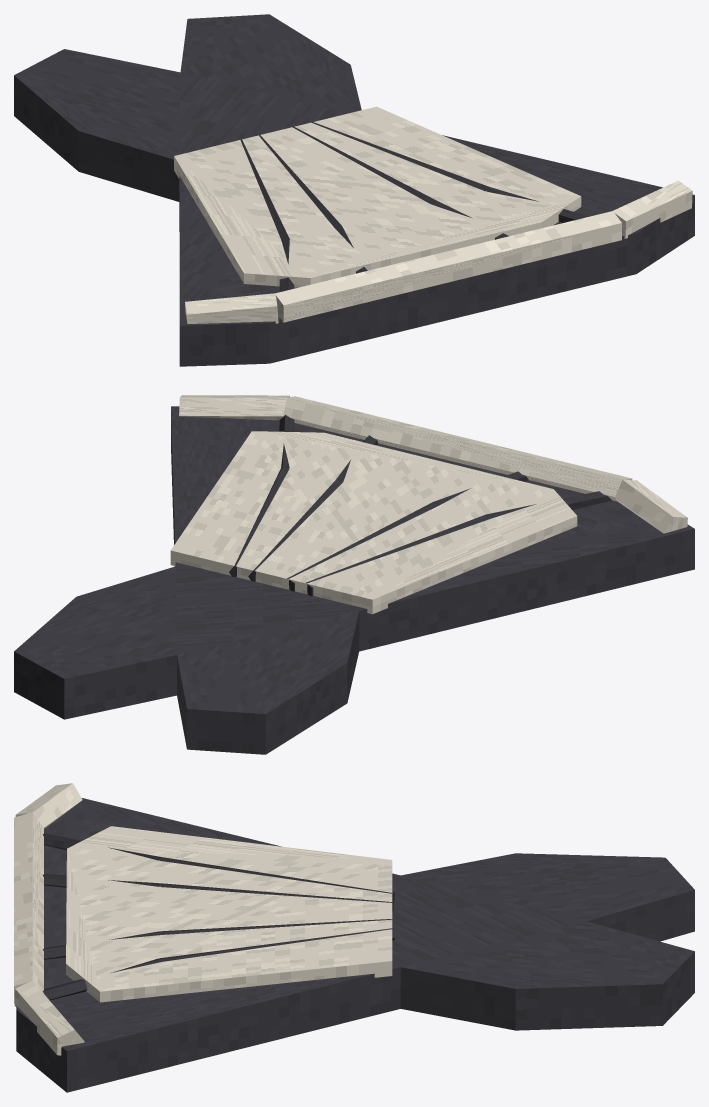
File: maid_dress_short.glb
3 renders of one model, top to bottom at view 1: azimuth 30°, elevation 25°; view 2: azimuth 150°, elevation 25°; view 3: azimuth 270°, elevation 25°, orthographic. The views are drawn at different scales.
Parts seen in each view (by area): view 1: block_fitted dress and flared skirt, block_white apron, block_bright hem trim 1, block_fabric fold 0 (×4), block_bright hem trim 0, block_bright hem trim 2; view 2: block_fitted dress and flared skirt, block_white apron, block_bright hem trim 1, block_fabric fold 0 (×4), block_bright hem trim 2, block_bright hem trim 0, block_fabric fold 1; view 3: block_fitted dress and flared skirt, block_white apron, block_bright hem trim 1, block_fabric fold 0 (×4), block_bright hem trim 2, block_bright hem trim 0, block_fabric fold 1 (×2).
Part boxes in pixels (x1,y1,x2,y2): block_fitted dress and flared skirt: [14, 14, 694, 366]; block_white apron: [174, 106, 581, 287]; block_bright hem trim 1: [274, 211, 621, 322]; block_fabric fold 0 (×4): [240, 121, 489, 239]; block_bright hem trim 0: [185, 293, 278, 323]; block_bright hem trim 2: [613, 180, 692, 238]; block_fitted dress and flared skirt: [14, 406, 694, 754]; block_white apron: [170, 431, 577, 614]; block_bright hem trim 1: [283, 396, 632, 501]; block_fabric fold 0 (×4): [229, 466, 489, 596]; block_bright hem trim 2: [179, 395, 289, 420]; block_bright hem trim 0: [614, 479, 687, 533]; block_fabric fold 1: [486, 491, 611, 518]; block_fitted dress and flared skirt: [16, 798, 694, 1092]; block_white apron: [66, 826, 392, 1002]; block_bright hem trim 1: [14, 812, 43, 1003]; block_fabric fold 0 (×4): [159, 857, 394, 961]; block_bright hem trim 2: [14, 981, 84, 1055]; block_bright hem trim 0: [15, 783, 82, 829]; block_fabric fold 1 (×2): [43, 833, 162, 1000].
Size of the model in its own units: 0.2705 by 0.0304 by 0.2999.
Materials: 1 (1 with a texture image).
